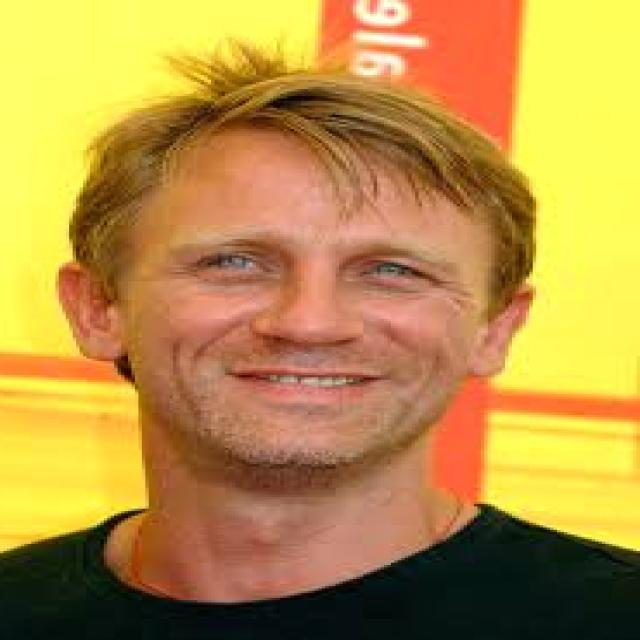normal_face: (58, 73, 535, 462)
